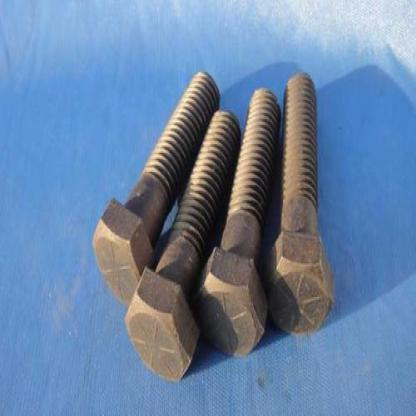FOD: (126, 106, 242, 383), (92, 68, 222, 311), (194, 86, 282, 361), (262, 70, 341, 334)
